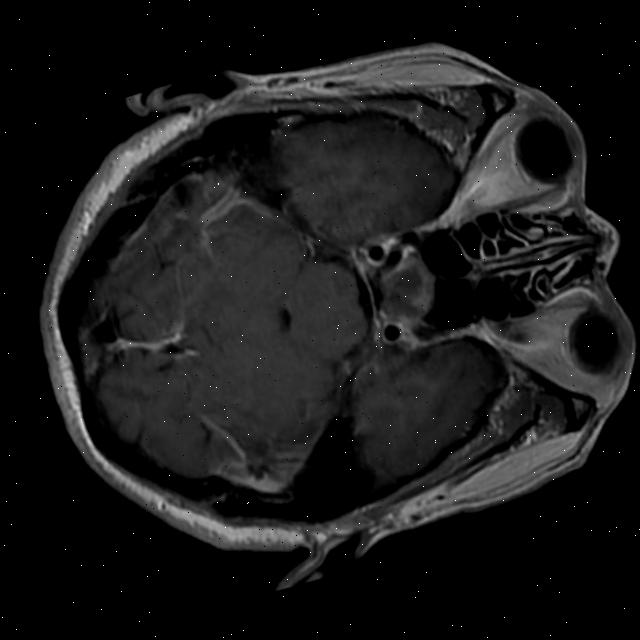Pituitary: (368, 240, 445, 325)
